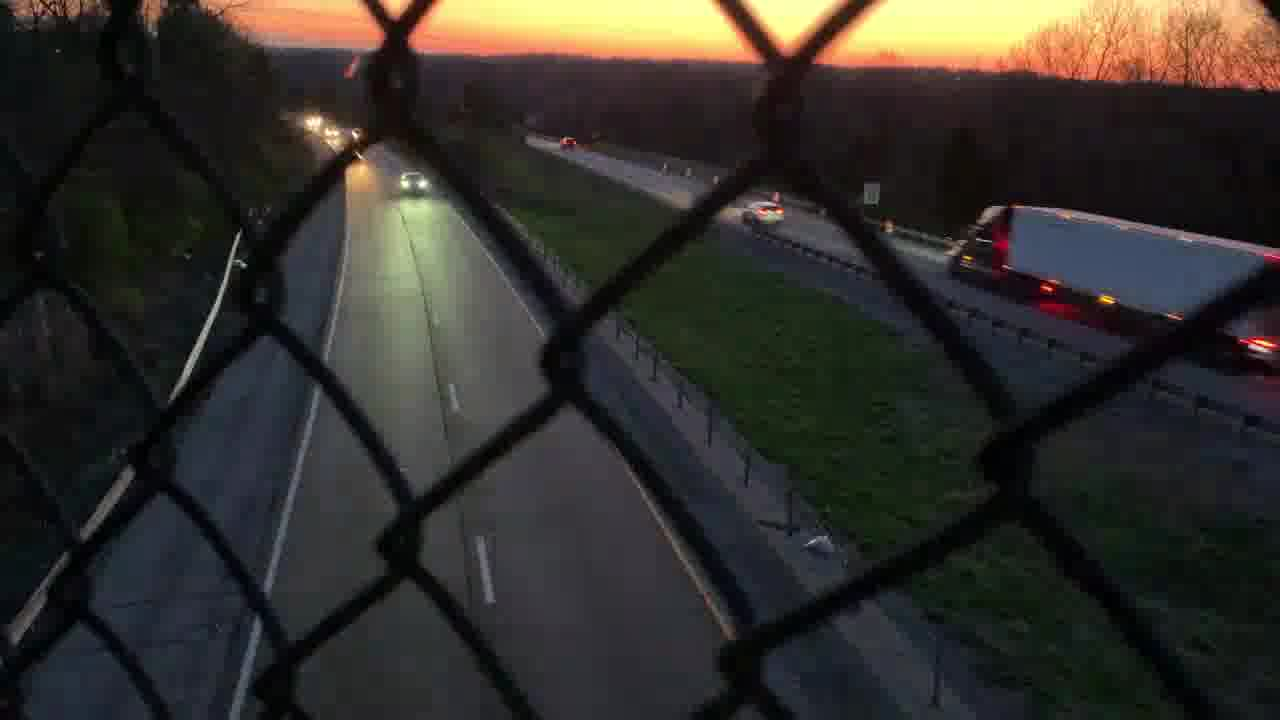heavyTruck: (947, 194, 1280, 328)
largeCar: (739, 203, 788, 229)
smallCar: (396, 171, 431, 197)
